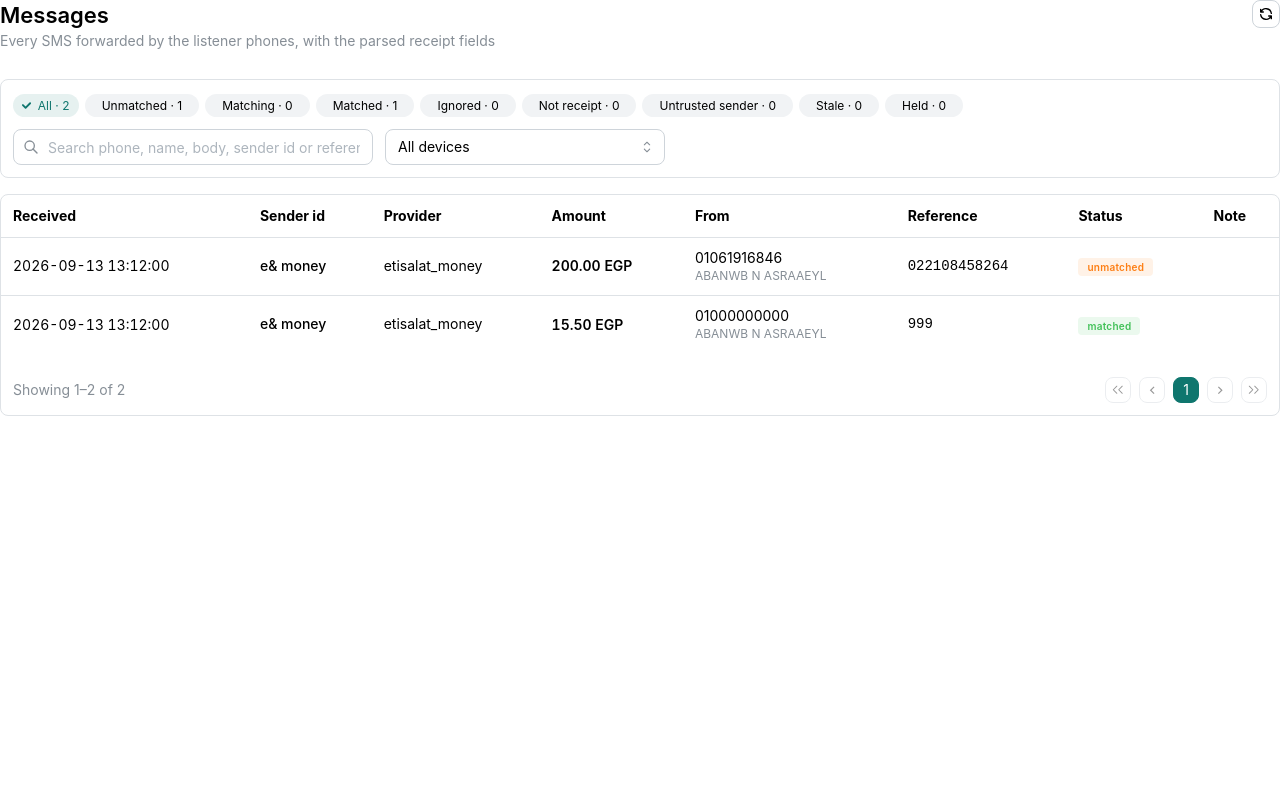
MessagesPage › lists messages with status badges and amounts, and opens the drawer on row click
Expected: the text "unmatched" is shown, x1=1087 y1=260 x2=1144 y2=276
Expected: the text "200.00 EGP" is shown, x1=552 y1=258 x2=632 y2=274
Click the 1st row with test id "message-row" at (640, 266), box x1=1 y1=237 x2=1279 y2=295
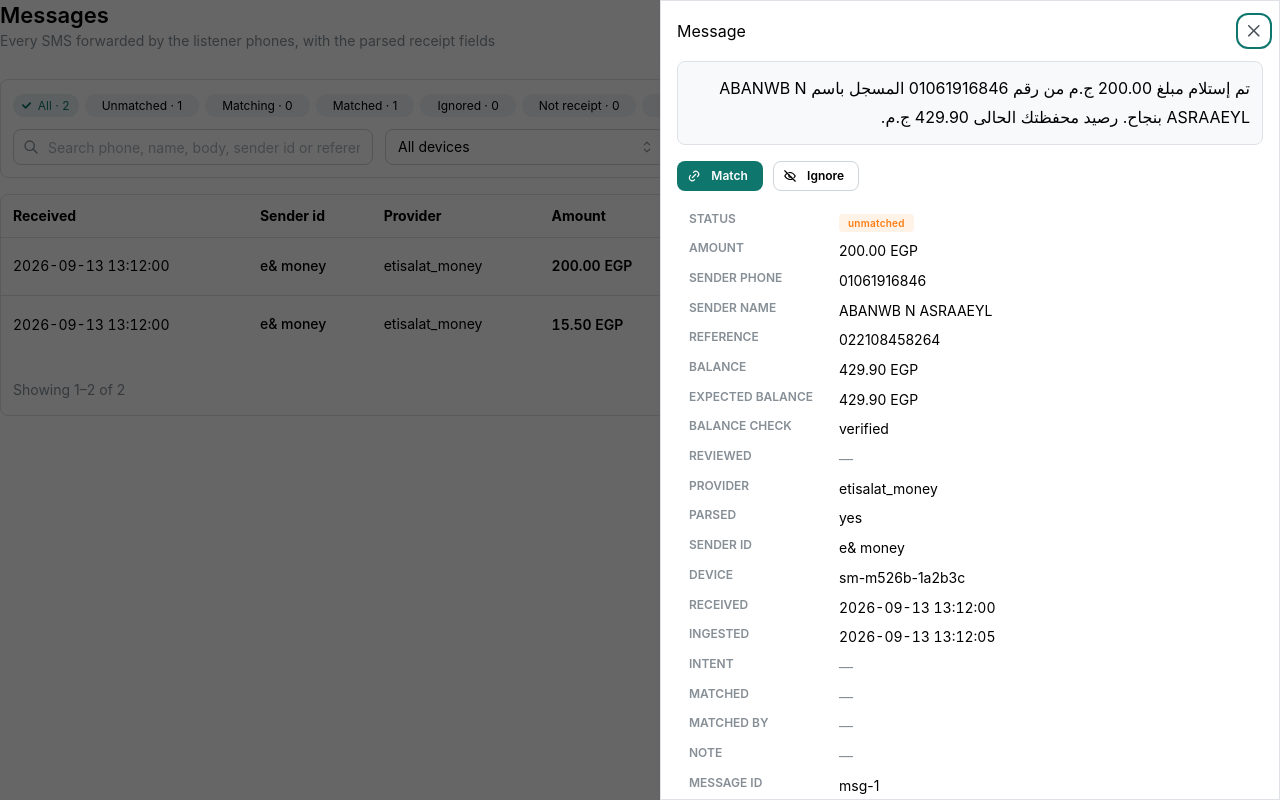
Now the button "Match" is shown, box x1=677 y1=161 x2=763 y2=191
Now the button "Ignore" is shown, box x1=773 y1=161 x2=859 y2=191
